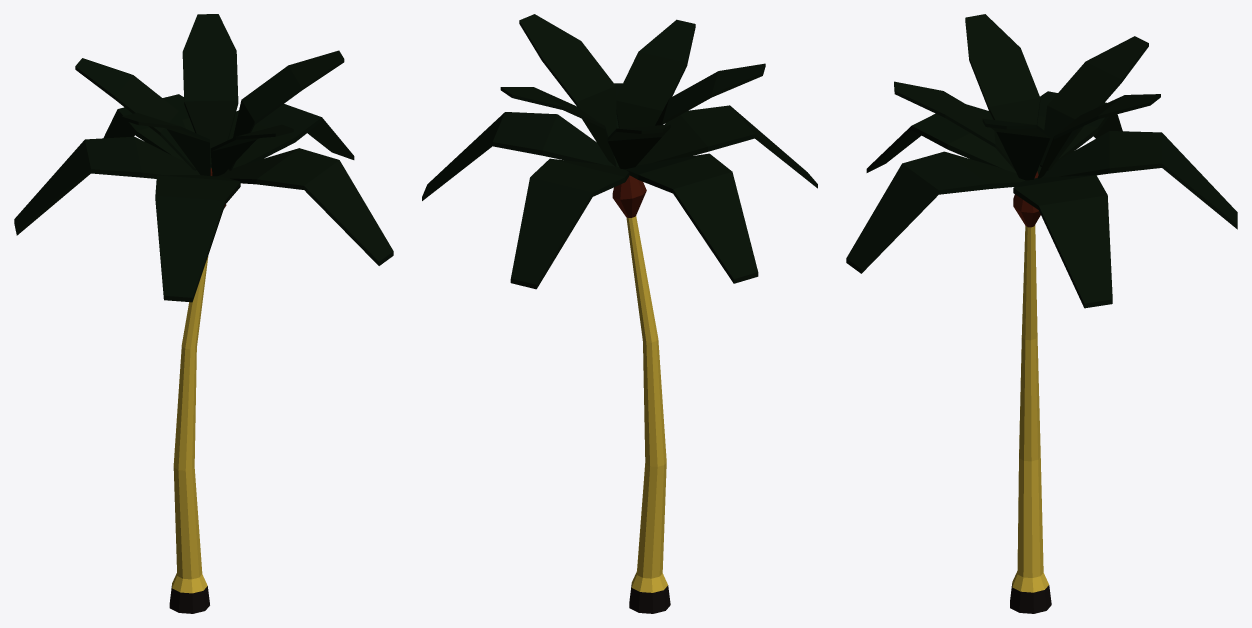
File: Palm_Tree_Summer.obj
3 views of the same model, side by side, from view 1: azimuth 30°, elevation 25°; view 2: azimuth 150°, elevation 25°; view 3: azimuth 270°, elevation 25° (orthographic). The views are drawn at different scales.
Parts seen in each view (by area): view 1: Palm_Tree_Summer_Cylinder.037; view 2: Palm_Tree_Summer_Cylinder.037; view 3: Palm_Tree_Summer_Cylinder.037.
Part boxes in pixels (bbox=[...]): Palm_Tree_Summer_Cylinder.037: bbox=[14, 14, 393, 613]; Palm_Tree_Summer_Cylinder.037: bbox=[422, 14, 817, 613]; Palm_Tree_Summer_Cylinder.037: bbox=[846, 14, 1237, 613].
Bounding box in the file's own units: 3.59 × 5.49 × 3.55.
